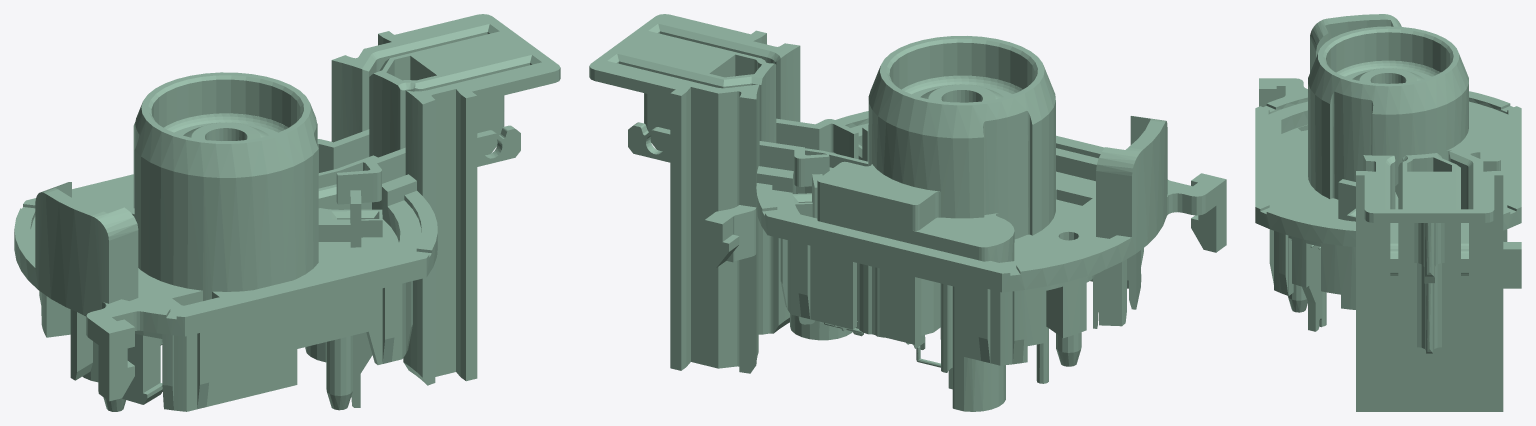
Rendered from Buerstenhalter_2polig.glb.
3 views of the same model, side by side, from view 1: azimuth 30°, elevation 25°; view 2: azimuth 150°, elevation 25°; view 3: azimuth 270°, elevation 25° (orthographic). The views are drawn at different scales.
Visible parts, largest first — view 1: Buerstenhalter_2polig; view 2: Buerstenhalter_2polig; view 3: Buerstenhalter_2polig.
Boxes of the visible parts, x1,y1,x2,y2 form: Buerstenhalter_2polig: [14, 14, 560, 411]; Buerstenhalter_2polig: [589, 14, 1226, 411]; Buerstenhalter_2polig: [1255, 14, 1521, 411].
Size of the model in its own units: 0.056 by 0.0322 by 0.0298.
